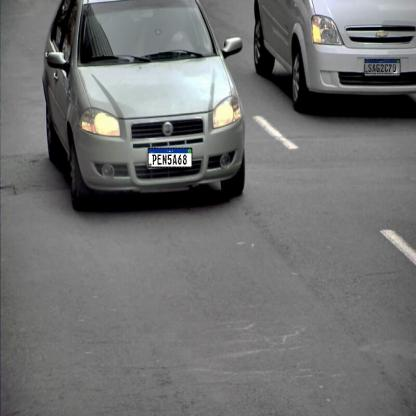PlacaM: (148, 147, 192, 168), (364, 59, 400, 74)
